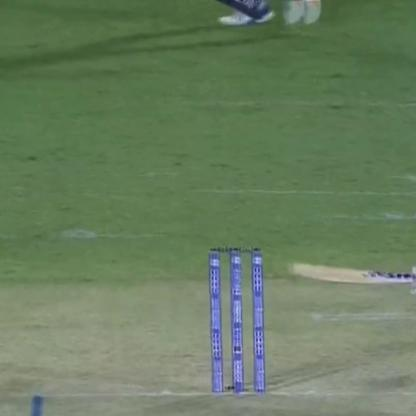bat: (293, 255, 415, 289)
